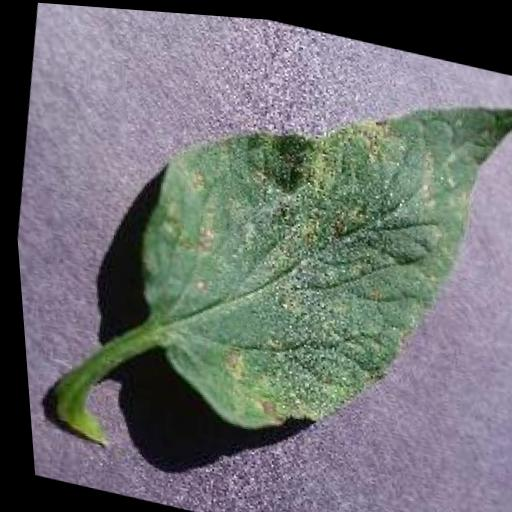Septoria: (100, 21, 512, 477)
